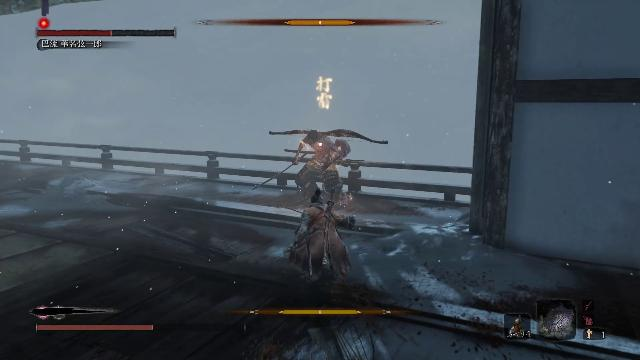sk: (279, 186, 355, 286)
